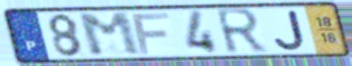4: (183, 8, 219, 57)
8: (47, 12, 86, 59)
F: (130, 11, 173, 56)
J: (272, 9, 308, 52)
M: (75, 11, 144, 58)
R: (213, 6, 270, 57)
